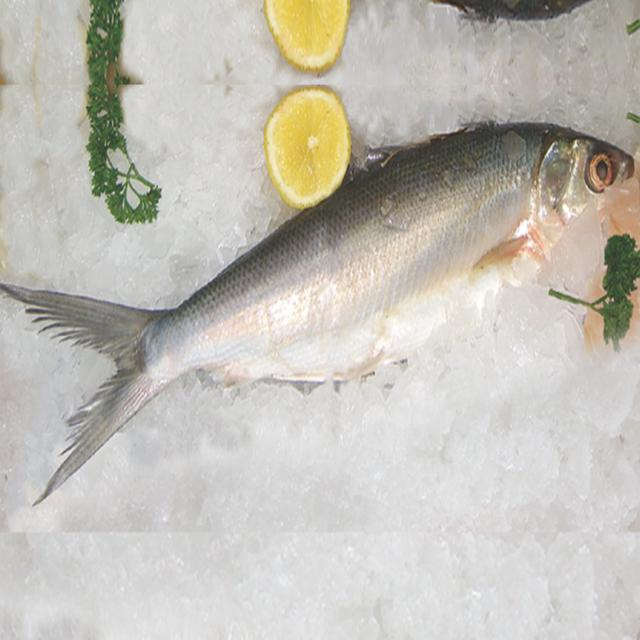Bangus: (15, 95, 640, 516)
